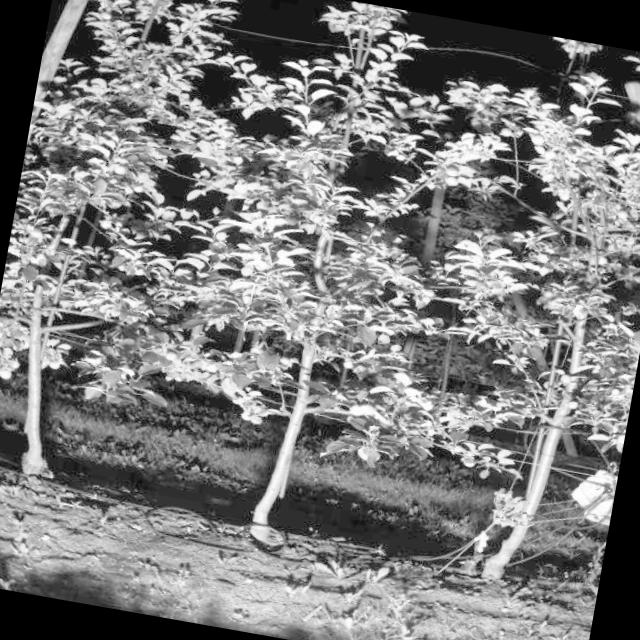Tree: (176, 0, 456, 555), (0, 0, 236, 502), (435, 37, 640, 600)
